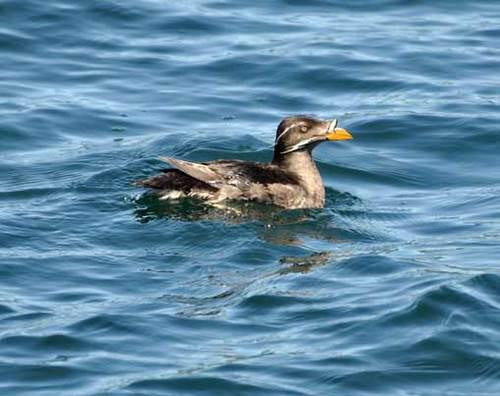008.Rhinoceros_Auklet: (129, 112, 354, 212)
